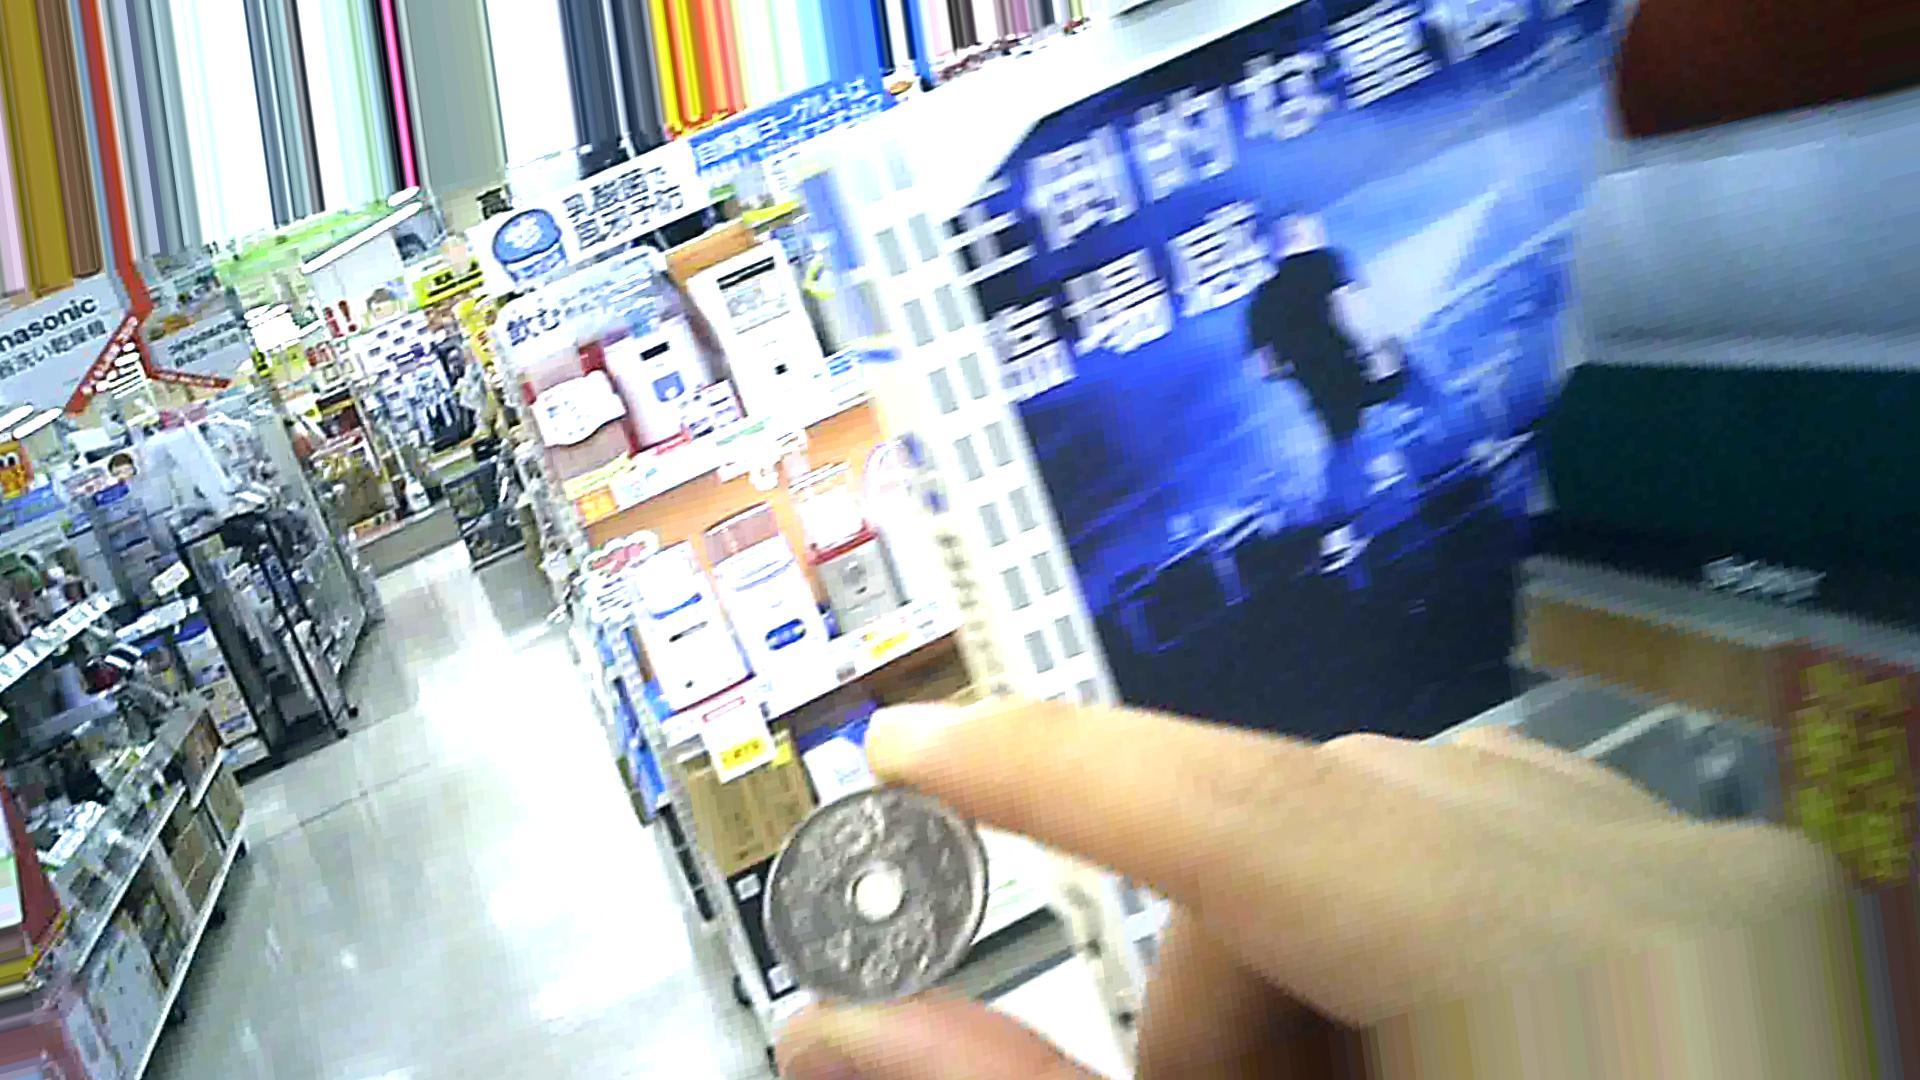50 Yen: (760, 785, 1011, 1002)
